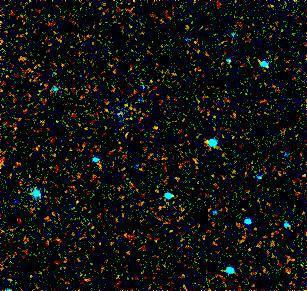star: (138, 113, 168, 143)
